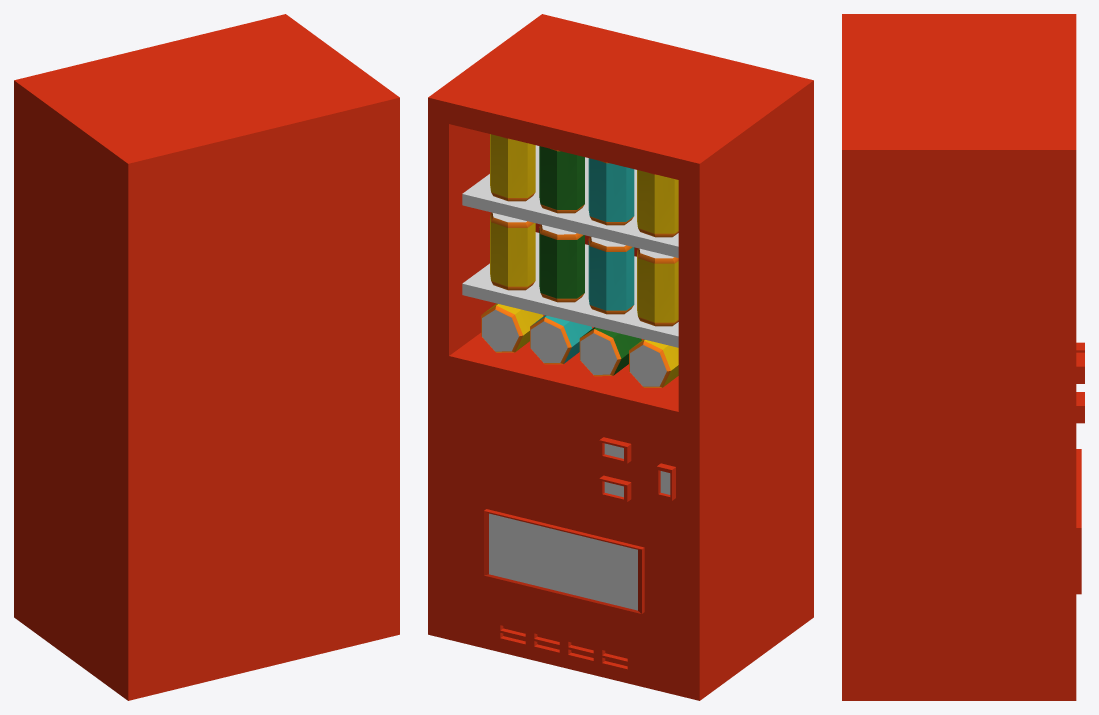
File: vending machine.fbx
3 views of the same model, side by side, from view 1: azimuth 30°, elevation 25°; view 2: azimuth 150°, elevation 25°; view 3: azimuth 270°, elevation 25° (orthographic). The views are drawn at different scales.
Parts seen in each view (by area): view 1: vending machine; view 2: vending machine; view 3: vending machine.
Boxes of the visible parts, box(x1,y1,x2,y2) form: vending machine: box(14, 14, 399, 700); vending machine: box(428, 14, 813, 700); vending machine: box(842, 14, 1084, 700).
Bounding box in the file's own units: 106 × 200 × 80.
